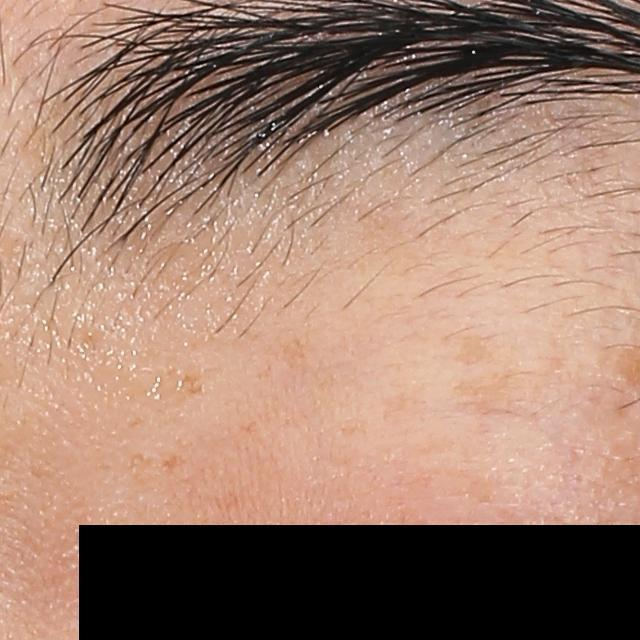melasma: (448, 333, 489, 367), (176, 369, 209, 399), (161, 450, 185, 471)
